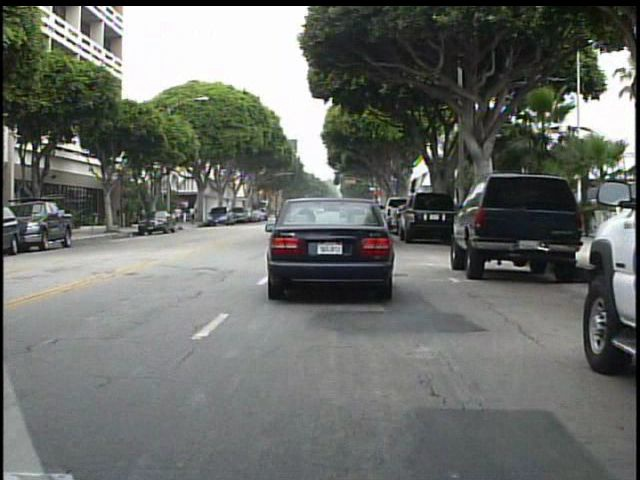person: (186, 202, 199, 228), (176, 204, 185, 226)
